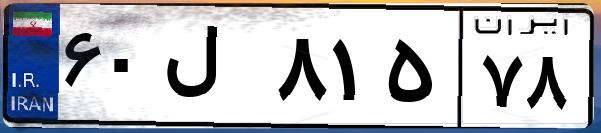0: (110, 28, 158, 98)
1: (330, 28, 385, 110)
5: (385, 28, 445, 110)
6: (57, 26, 110, 100)
7: (475, 38, 525, 113)
8: (270, 28, 330, 110), (525, 38, 570, 115)
ل: (158, 20, 270, 120)
